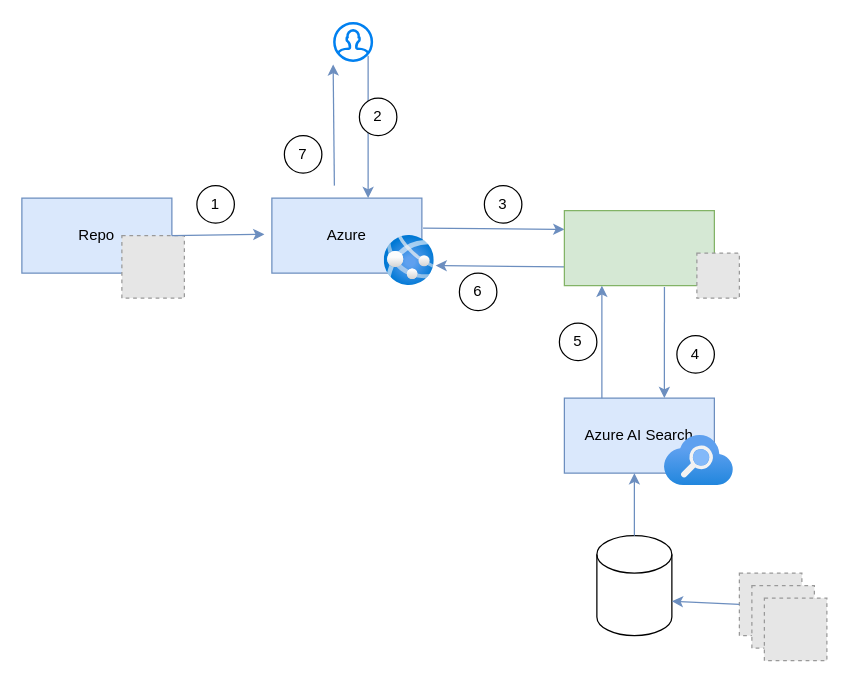
The diagram is 849 pixels wide and 683 high, and some of its shapes have lost their labels. Grey dashed boxes stand in for pictures. The centre of each missing label's shape, as x and y in pixels:
"Promptflow" goes at (638,247).
"Vector Indexes" goes at (634,585).
